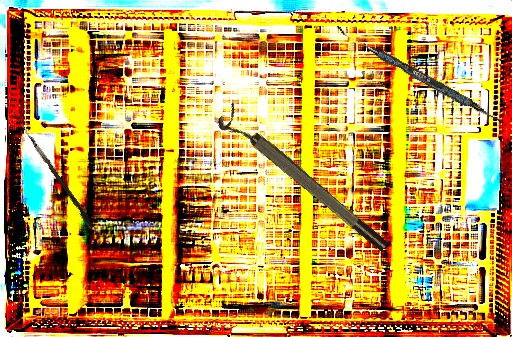Fixation Ring: (214, 102, 392, 262)
Hook Surgical: (6, 110, 97, 230)
Spatula Surgical: (331, 25, 511, 128)
